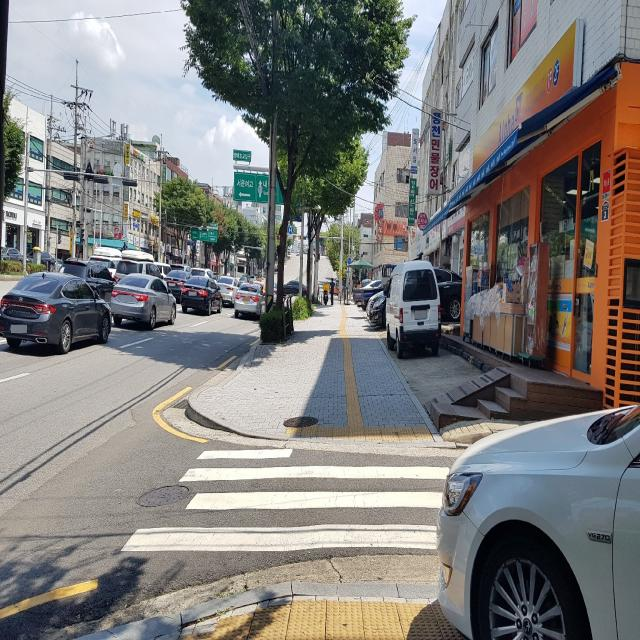횡단보도: (119, 445, 451, 556)
